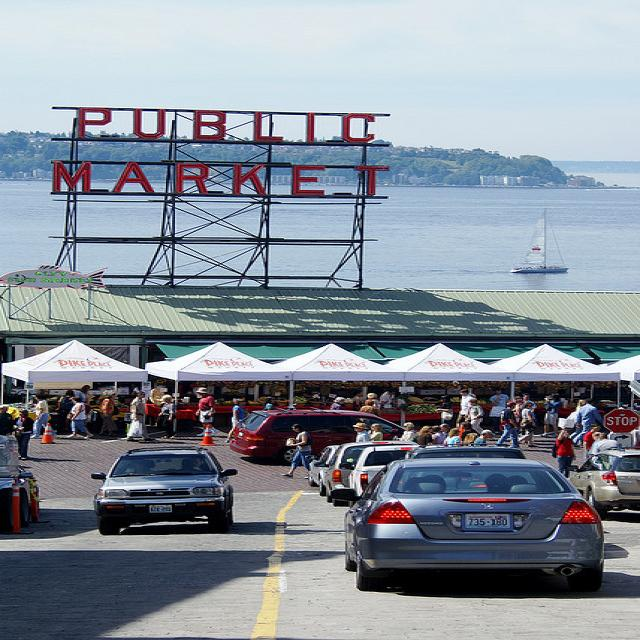Vehicle: (346, 455, 606, 593), (87, 444, 246, 540), (227, 404, 405, 464), (315, 441, 411, 506), (566, 447, 640, 515), (351, 442, 424, 498), (0, 461, 43, 518), (409, 442, 528, 462), (308, 444, 342, 496)
